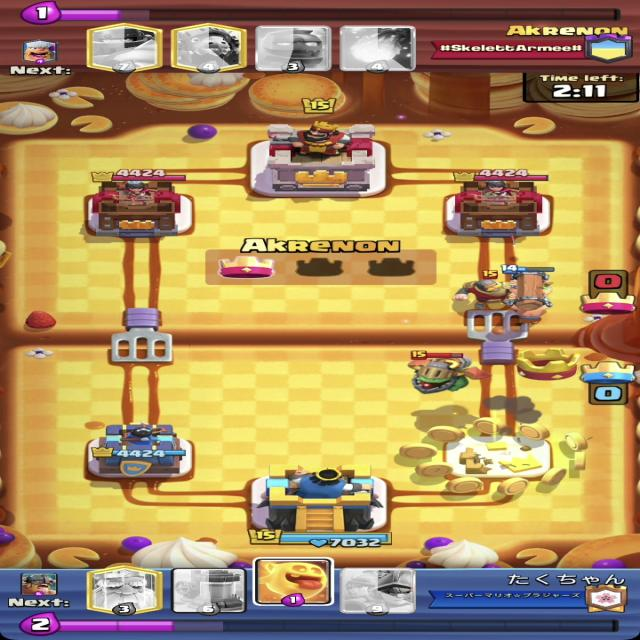Enemy-InfernoDragon: (406, 350, 493, 393)
Enemy-Knight: (454, 269, 526, 311)
Player-BattleRam: (499, 264, 556, 327)
